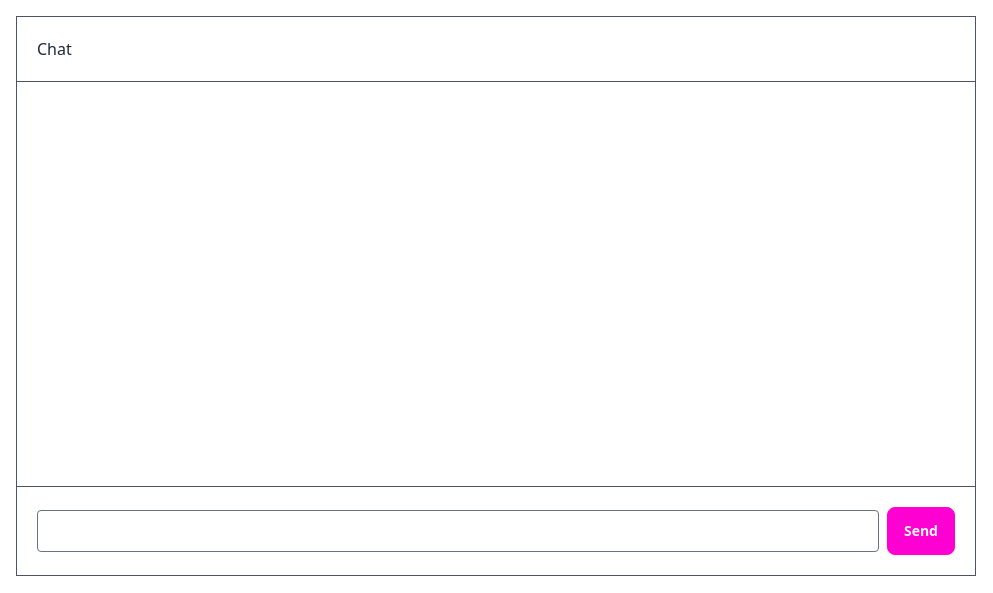
Test: Chat › sends a message through the socket and clears the input
The image size is (993, 593).
Step 1. Type "Hello there" into the field → (458, 531), box left=37, top=510, right=879, bottom=552
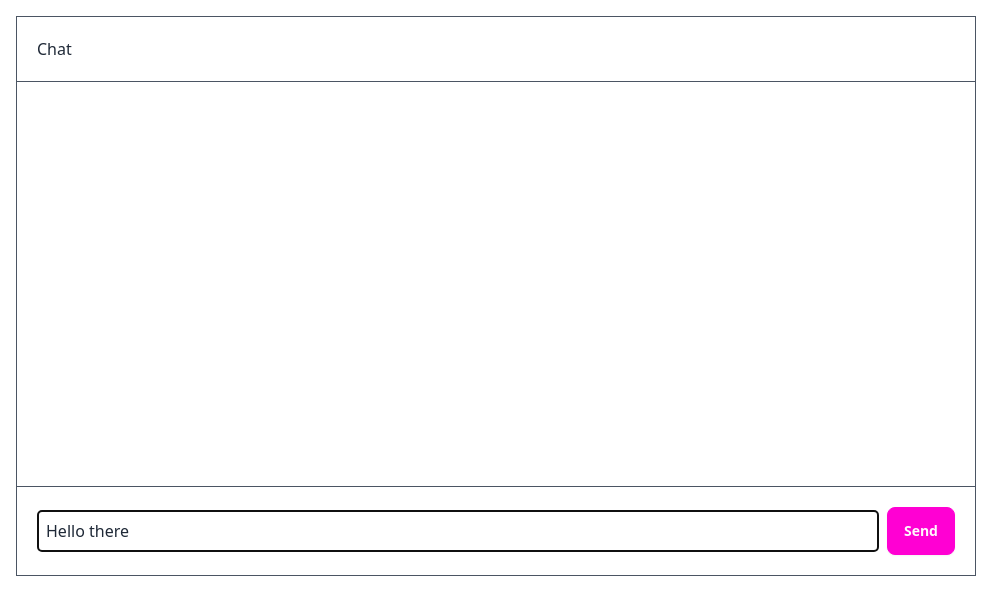
Step 2. Click the button "Send" → click(921, 531), box left=887, top=507, right=955, bottom=555
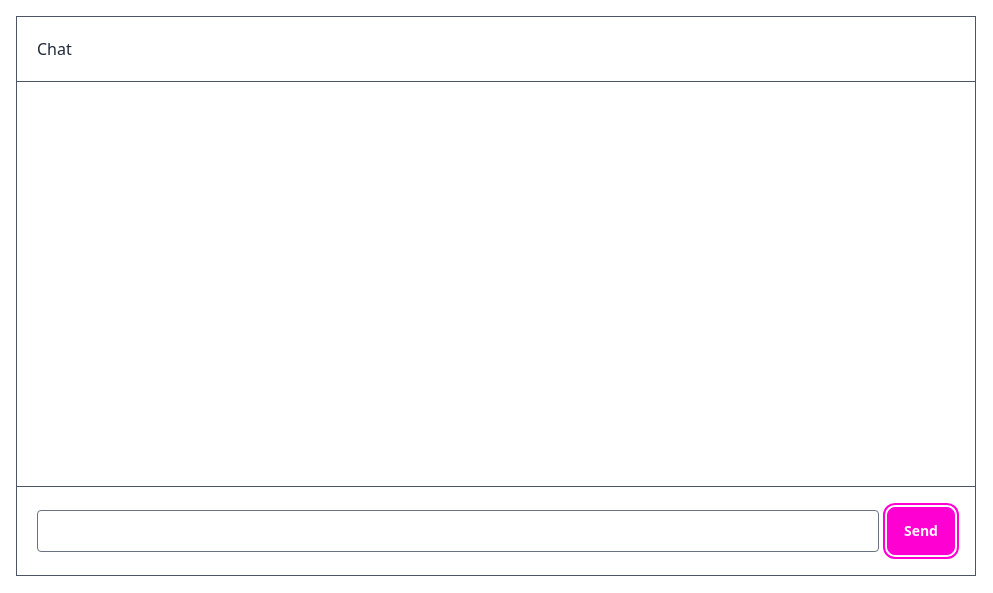
Expected: the field is empty, left=37, top=510, right=879, bottom=552
